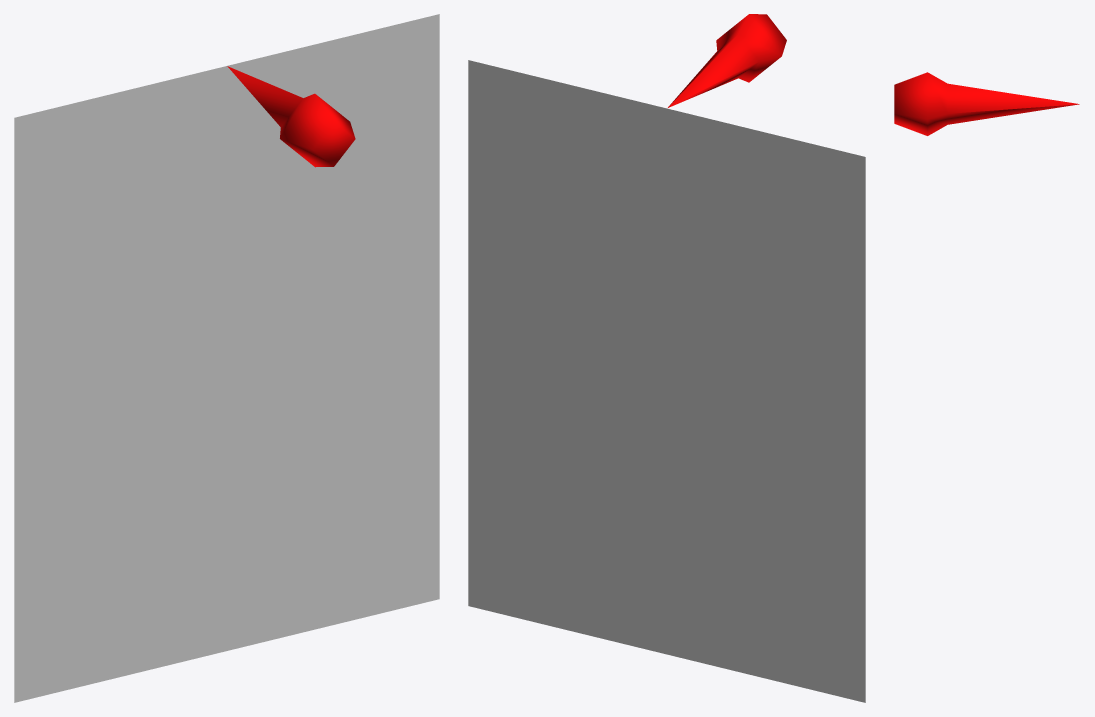
Rendered from pin_note_01_mockup.fbx.
The picture shows the model from 3 angles, left to right: view 1: azimuth 30°, elevation 25°; view 2: azimuth 150°, elevation 25°; view 3: azimuth 270°, elevation 25°; orthographic projection. The views are drawn at different scales.
Visible parts, largest first — view 1: Plane; view 2: Plane; view 3: Plane.
Part boxes in pixels (x1,y1,x2,y2): Plane: [14, 14, 439, 702]; Plane: [468, 14, 865, 702]; Plane: [894, 72, 1079, 135].
Bounding box in the file's own units: 0.1879 × 0.082 × 0.2624.
